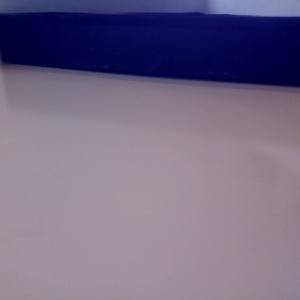zone: (1, 11, 300, 88)
